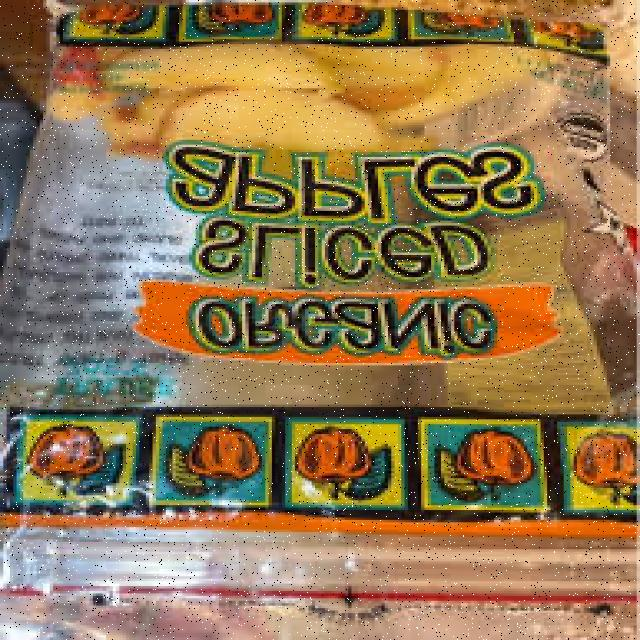Apple: (158, 87, 392, 154), (402, 45, 562, 134), (96, 38, 354, 88), (354, 49, 448, 111)
